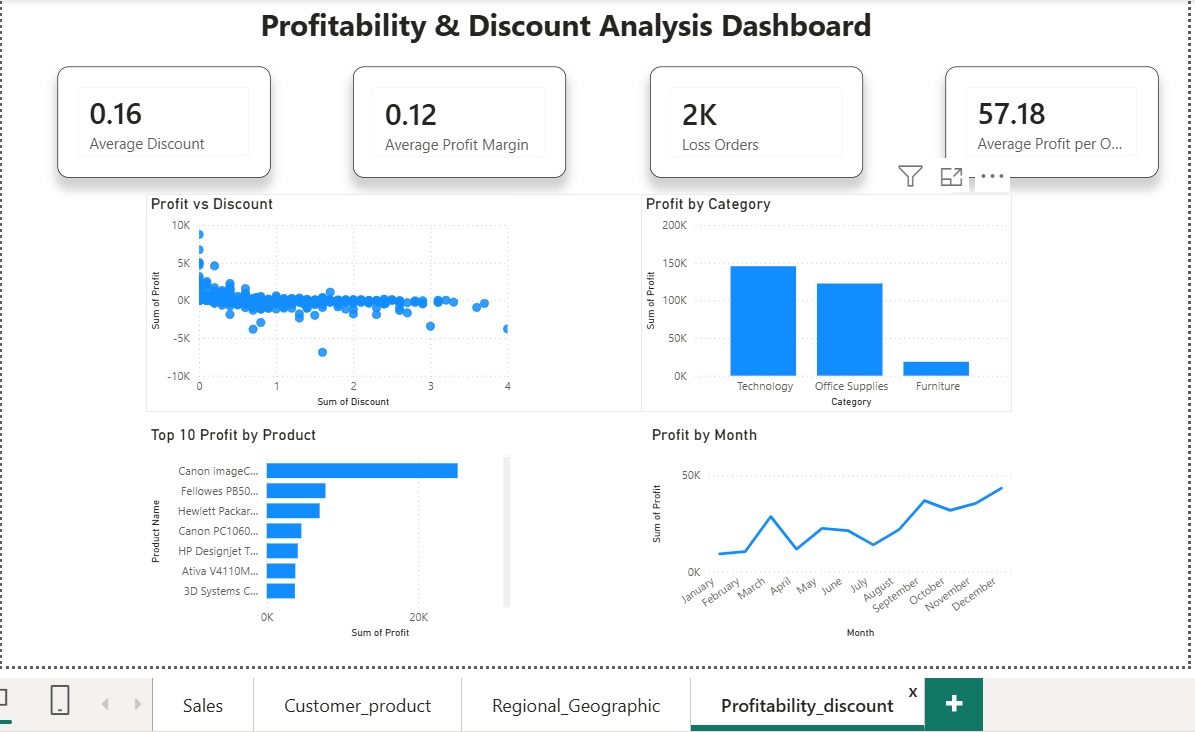

What the dashboard file says about the page in this screenshot:
{"tool":"powerbi","page":{"name":"Profitability_discount","canvas":[1280,720],"ordinal":3},"visuals":[{"type":"textbox","box":[273.6,0,696.3,59.9],"z":0},{"type":"cardVisual","fields":{"Data":["Orders.Average Discount"]},"box":[59.9,72.9,229.9,119.8],"z":0,"group":"g1"},{"type":"scatterChart","title":"Profit vs Discount","fields":{"X":["Sum(Orders.Discount)"],"Y":["Sum(Orders.Profit)"],"Category":["Orders.Order ID"]},"box":[155.4,210.5,399,234.8],"z":0,"group":"g2"},{"type":"group","id":"g1","title":"Group 1","box":[59.9,72.9,1188.5,119.8],"z":1000},{"type":"cardVisual","fields":{"Data":["Orders.Average Profit Margin"]},"box":[379.6,72.9,230,120],"z":1000,"group":"g1"},{"type":"clusteredColumnChart","title":" Profit by Category","fields":{"Y":["Sum(Orders.Profit)"],"Category":["Orders.Category"]},"box":[689.7,210.5,399.9,234.8],"z":1000,"group":"g2"},{"type":"lineChart","title":" Profit by Month","fields":{"Category":["Orders.Order Date.Variation.Date Hierarchy.Month"],"Y":["Sum(Orders.Profit)"]},"box":[695.7,459.9,398.3,234.8],"z":1000,"group":"g3"},{"type":"cardVisual","fields":{"Data":["Orders.Loss Orders"]},"box":[699.3,72.9,230,120],"z":2000,"group":"g1"},{"type":"group","id":"g2","title":"Group 2","box":[155.4,210.5,934.3,234.8],"z":2000},{"type":"cardVisual","fields":{"Data":["Orders.Average Profit per Order"]},"box":[1019,72.9,229.9,119.8],"z":3000,"group":"g1"},{"type":"group","id":"g3","title":"Group 3","box":[695.7,459.9,398.3,234.8],"z":3000,"group":"g4"},{"type":"barChart","title":"Top 10 Profit by Product ","fields":{"Y":["Sum(Orders.Profit)"],"Category":["Orders.Product Name"]},"box":[155.4,459.9,398.3,234.8],"z":3001,"group":"g4"},{"type":"group","id":"g4","title":"Group 4","box":[155.4,459.9,938.6,234.8],"z":3002}]}

Visuals, with their boxes on the page's 1280x720 design canvas (x1, y1, x2, y2). These are canvas units, not pixel positions in the 1195x732 screenshot, which may show the page scaled, cropped or inside an application window:
textbox: box(274, 0, 970, 60)
cardVisual - Orders.Average Discount: box(60, 73, 290, 193)
"Profit vs Discount" scatterChart: box(155, 210, 554, 445)
"Group 1" group: box(60, 73, 1248, 193)
cardVisual - Orders.Average Profit Margin: box(380, 73, 610, 193)
" Profit by Category" clusteredColumnChart: box(690, 210, 1090, 445)
" Profit by Month" lineChart: box(696, 460, 1094, 695)
cardVisual - Orders.Loss Orders: box(699, 73, 929, 193)
"Group 2" group: box(155, 210, 1090, 445)
cardVisual - Orders.Average Profit per Order: box(1019, 73, 1249, 193)
"Group 3" group: box(696, 460, 1094, 695)
"Top 10 Profit by Product " barChart: box(155, 460, 554, 695)
"Group 4" group: box(155, 460, 1094, 695)
